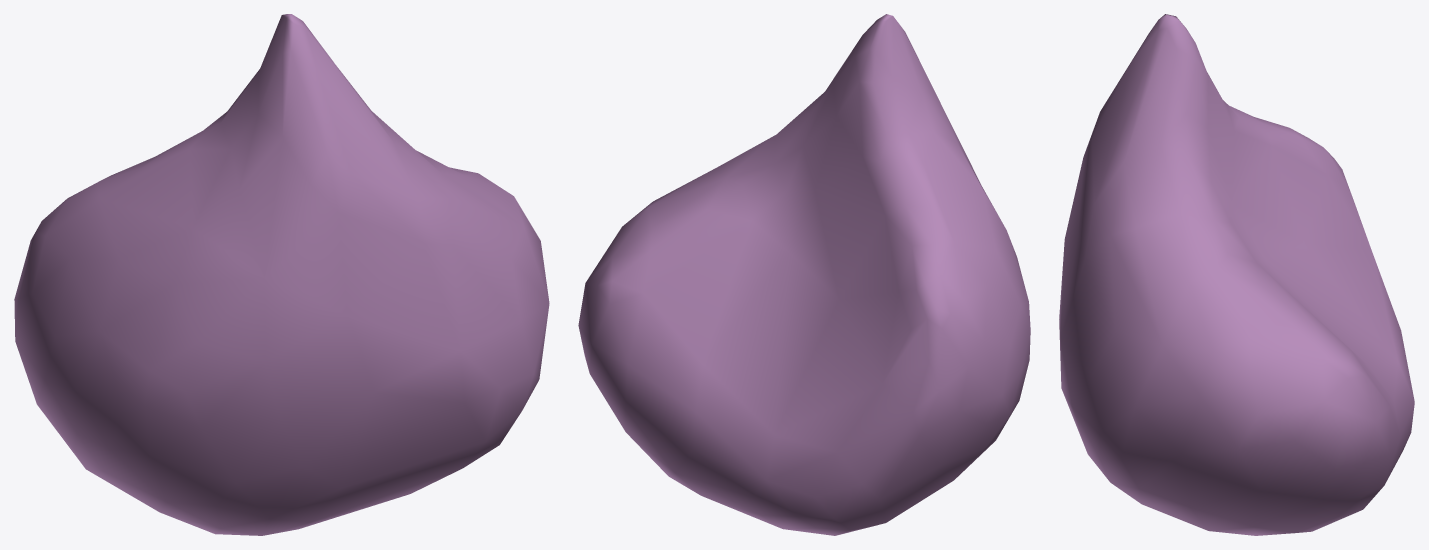
3 views of the same model, side by side, from view 1: azimuth 30°, elevation 25°; view 2: azimuth 150°, elevation 25°; view 3: azimuth 270°, elevation 25° (orthographic). The views are drawn at different scales.
Visible parts, largest first — view 1: 右侧杏仁体; view 2: 右侧杏仁体; view 3: 右侧杏仁体.
Part boxes in pixels (box(x1,y1,x2,y2)): 右侧杏仁体: box(14, 14, 549, 535); 右侧杏仁体: box(578, 14, 1030, 535); 右侧杏仁体: box(1059, 14, 1414, 535).
Bounding box in the file's own units: 0.0244 × 0.0263 × 0.0183.
